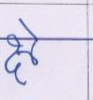e_matra: (18, 18, 39, 37)
